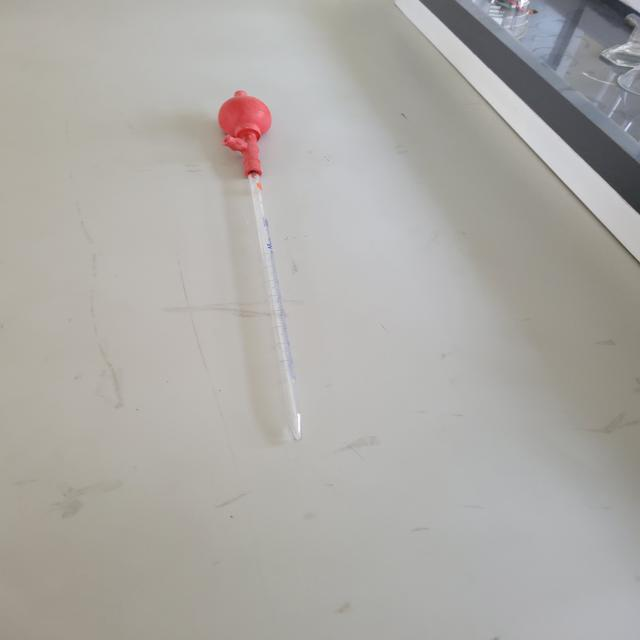Volumetric_Pipet: (155, 50, 368, 472)
